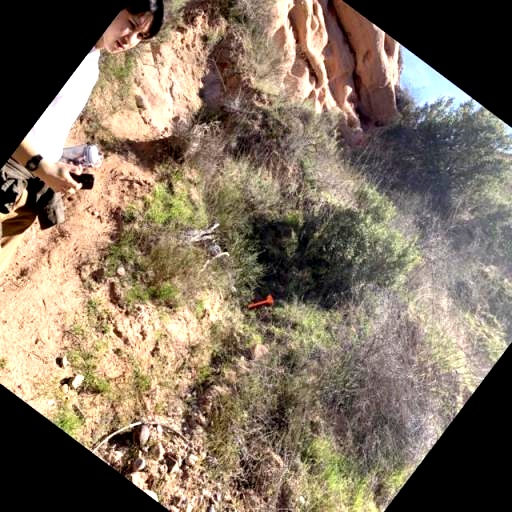bottle: (54, 131, 108, 184)
mallet: (246, 288, 276, 319)
